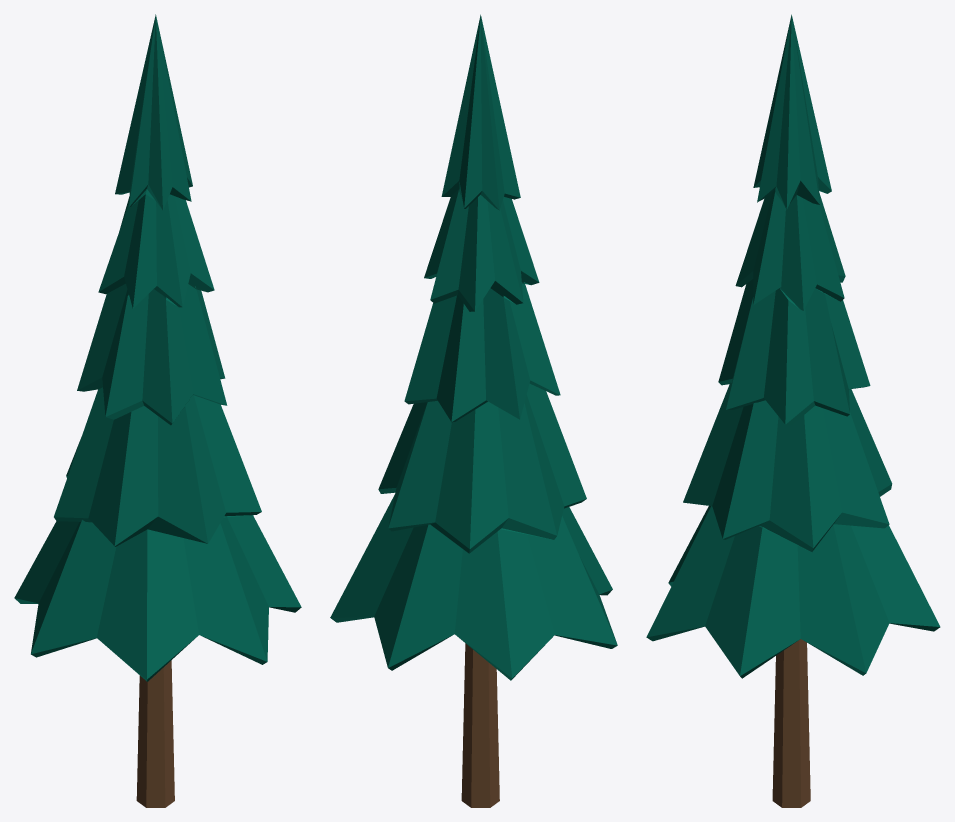
The model's file is PineTree.001.fbx.
3 renders of one model, left to right at view 1: azimuth 30°, elevation 25°; view 2: azimuth 150°, elevation 25°; view 3: azimuth 270°, elevation 25°, orthographic.
Visible parts, largest first — view 1: PineTree.001; view 2: PineTree.001; view 3: PineTree.001.
Boxes of the visible parts, bbox=[...] form: PineTree.001: bbox=[14, 14, 301, 807]; PineTree.001: bbox=[330, 14, 617, 807]; PineTree.001: bbox=[646, 14, 940, 807].
Size of the model in its own units: 759 by 2271 by 770.
